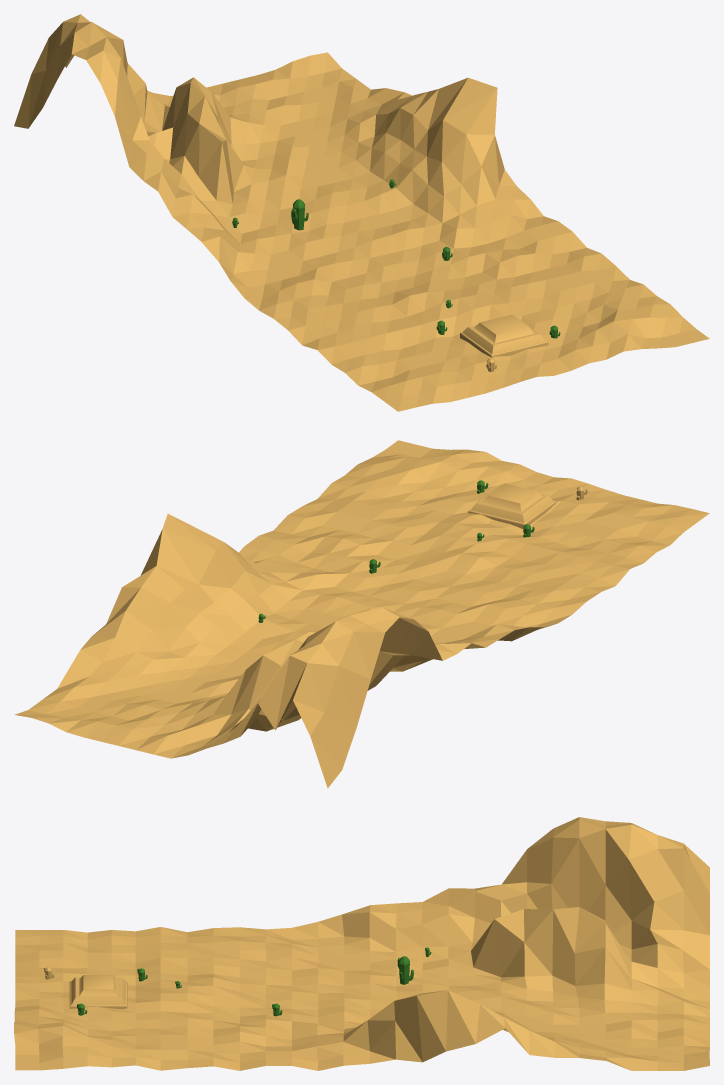
File: Level2_model.FBX
3 views of the same model, one above another, from view 1: azimuth 30°, elevation 25°; view 2: azimuth 150°, elevation 25°; view 3: azimuth 270°, elevation 25° (orthographic). The views are drawn at different scales.
Visible parts, largest first — view 1: Plane017, Box001; view 2: Plane017, Box001; view 3: Plane017, Box001.
Part boxes in pixels (box(x1,y1,x2,y2)): Plane017: box(14, 14, 709, 411); Box001: box(460, 314, 548, 357); Plane017: box(14, 440, 709, 788); Box001: box(468, 483, 556, 529); Plane017: box(14, 817, 709, 1070); Box001: box(69, 975, 127, 1009).
Size of the model in its own units: 2576 by 1059 by 5300.
